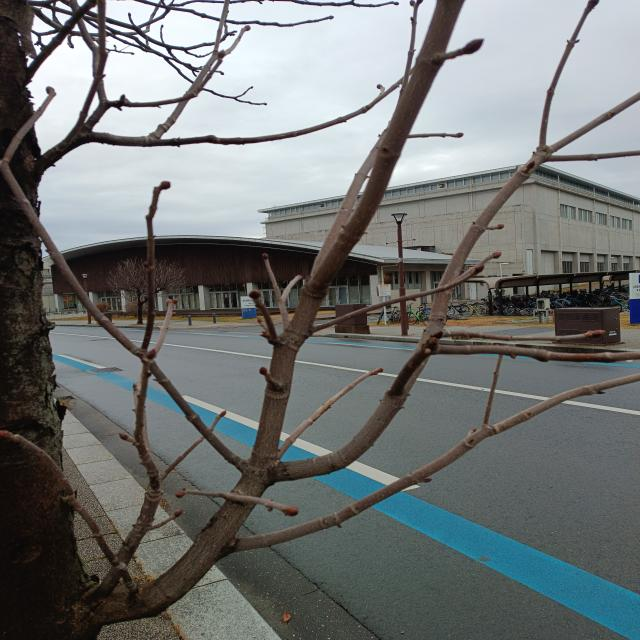Branch: (81, 494, 253, 631)
Twig: (233, 0, 463, 496), (268, 140, 568, 482), (0, 90, 246, 472), (237, 375, 638, 551), (27, 0, 97, 82)
